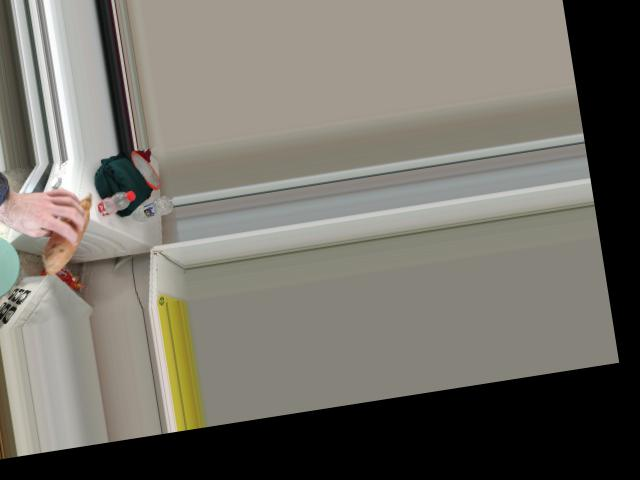sweet_potato: (35, 188, 99, 269)
